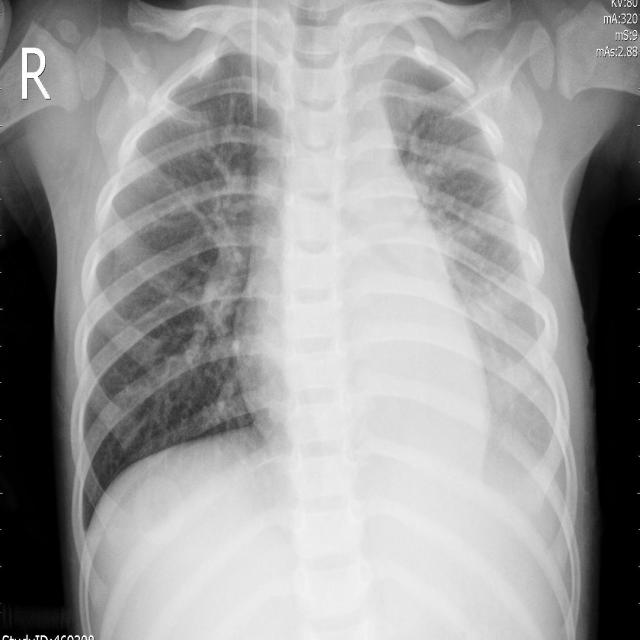low-pneumonia: (406, 133, 526, 428), (168, 135, 262, 387)
